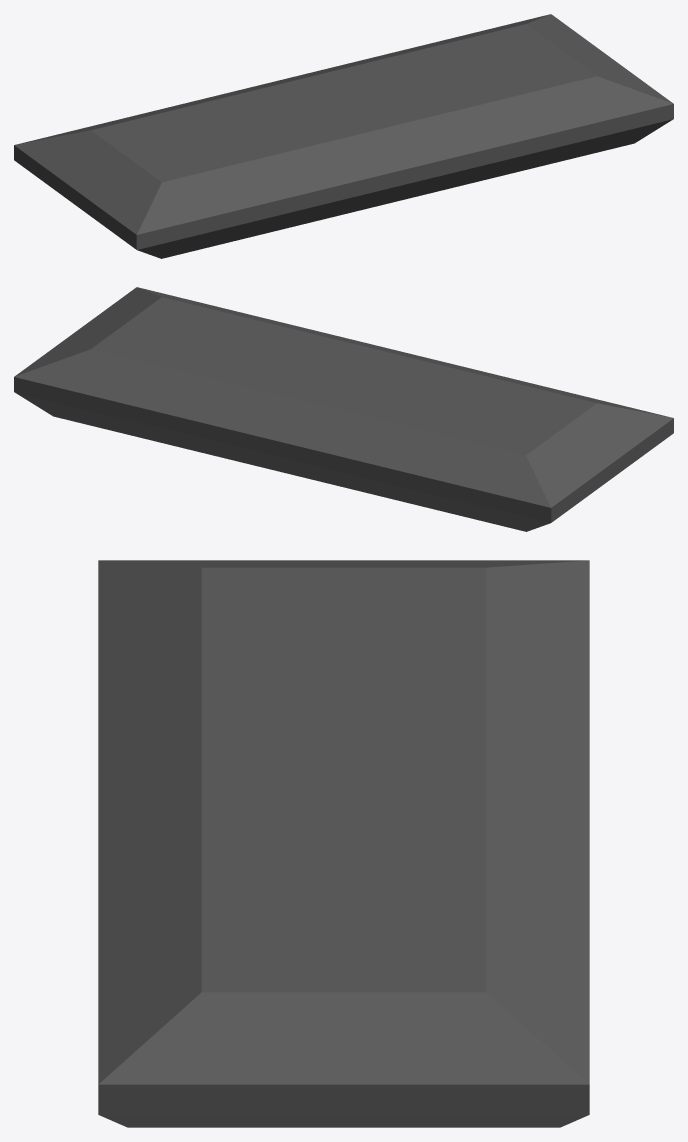
The model's file is Itr_Wardrobe1_Top_04.FBX.
3 views of the same model, one above another, from view 1: azimuth 30°, elevation 25°; view 2: azimuth 150°, elevation 25°; view 3: azimuth 270°, elevation 25° (orthographic). The views are drawn at different scales.
Visible parts, largest first — view 1: Itr_Wardrobe1_Top_04; view 2: Itr_Wardrobe1_Top_04; view 3: Itr_Wardrobe1_Top_04.
Part boxes in pixels (bbox=[...]): Itr_Wardrobe1_Top_04: bbox=[14, 14, 673, 258]; Itr_Wardrobe1_Top_04: bbox=[14, 287, 673, 531]; Itr_Wardrobe1_Top_04: bbox=[98, 560, 589, 1127].
Bounding box in the file's own units: 50.57 × 5.25 × 20.02.
